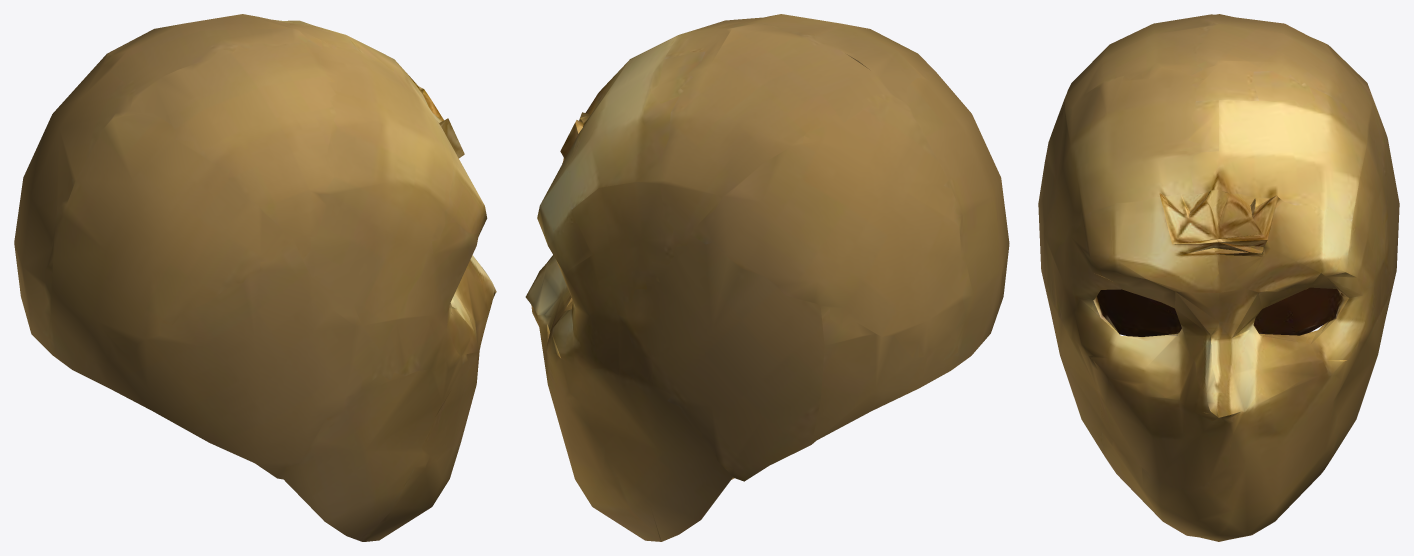
The model's file is mascara_coroa.glb.
3 renders of one model, left to right at view 1: azimuth 30°, elevation 25°; view 2: azimuth 150°, elevation 25°; view 3: azimuth 270°, elevation 25°, orthographic. The views are drawn at different scales.
Visible parts, largest first — view 1: tripo_node_4dff8b60-0114-4d1c-bb97-f9285b744e84; view 2: tripo_node_4dff8b60-0114-4d1c-bb97-f9285b744e84; view 3: tripo_node_4dff8b60-0114-4d1c-bb97-f9285b744e84.
Boxes of the visible parts, bbox=[...] form: tripo_node_4dff8b60-0114-4d1c-bb97-f9285b744e84: bbox=[14, 14, 496, 541]; tripo_node_4dff8b60-0114-4d1c-bb97-f9285b744e84: bbox=[525, 14, 1009, 541]; tripo_node_4dff8b60-0114-4d1c-bb97-f9285b744e84: bbox=[1038, 14, 1399, 541].
Bounding box in the file's own units: 0.8937 × 0.9988 × 0.7296.
Materials: 1 (1 with a texture image).
